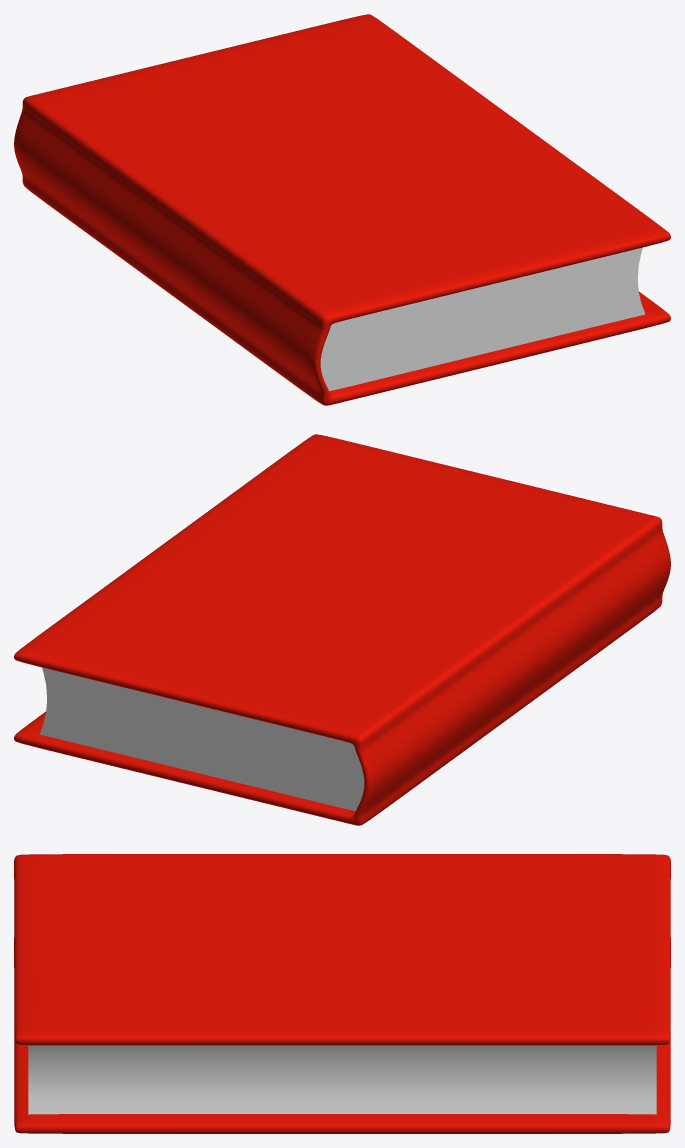
The model's file is books.glb.
3 views of the same model, one above another, from view 1: azimuth 30°, elevation 25°; view 2: azimuth 150°, elevation 25°; view 3: azimuth 270°, elevation 25° (orthographic). The views are drawn at different scales.
Parts seen in each view (by area): view 1: Book, Sheets; view 2: Book, Sheets; view 3: Book, Sheets.
Boxes of the visible parts, <box> form: Book: <box>14,14,670,405</box>; Sheets: <box>320,247,645,391</box>; Book: <box>14,434,670,825</box>; Sheets: <box>39,667,364,811</box>; Book: <box>14,854,670,1133</box>; Sheets: <box>28,1045,656,1114</box>.
Bounding box in the file's own units: 0.2046 × 0.05 × 0.2997.
